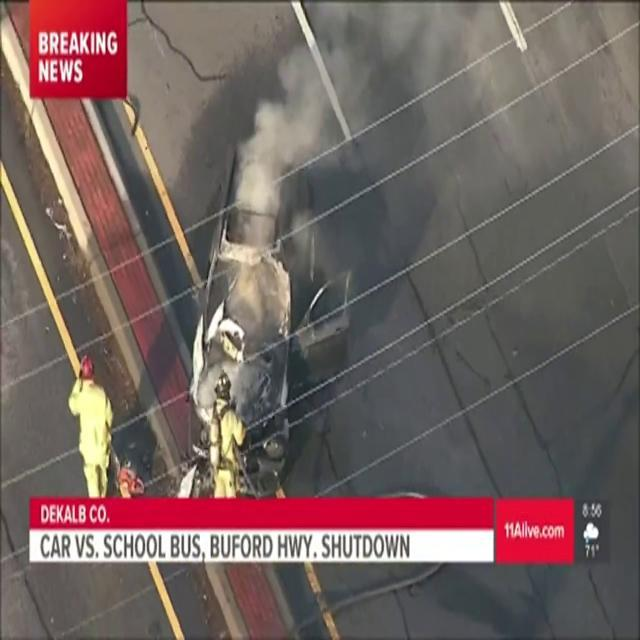Smoke: (236, 12, 409, 226)
